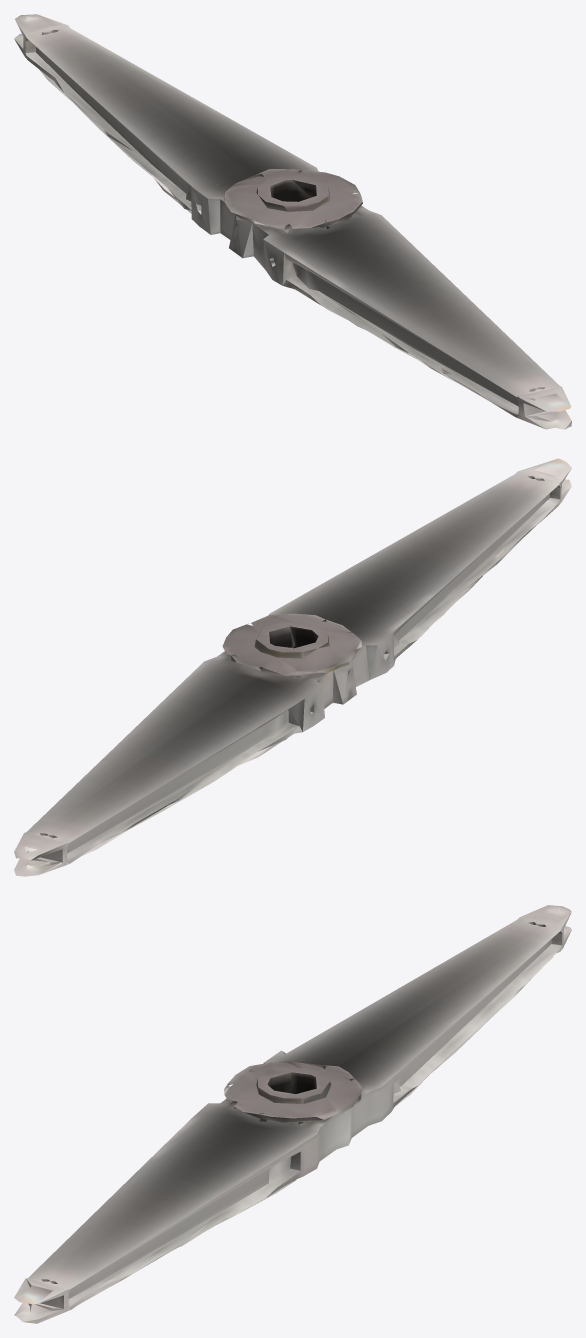
File: CenterDifferential.dae
3 renders of one model, top to bottom at view 1: azimuth 30°, elevation 25°; view 2: azimuth 150°, elevation 25°; view 3: azimuth 330°, elevation 25°, orthographic.
Parts seen in each view (by area): view 1: Object_0; view 2: Object_0; view 3: Object_0.
Boxes of the visible parts, x1,y1,x2,y2 form: Object_0: [14, 14, 571, 429]; Object_0: [14, 458, 571, 876]; Object_0: [14, 905, 571, 1323].
Size of the model in its own units: 0.1695 by 1.32 by 0.0714.
1 material, 1 textured.
